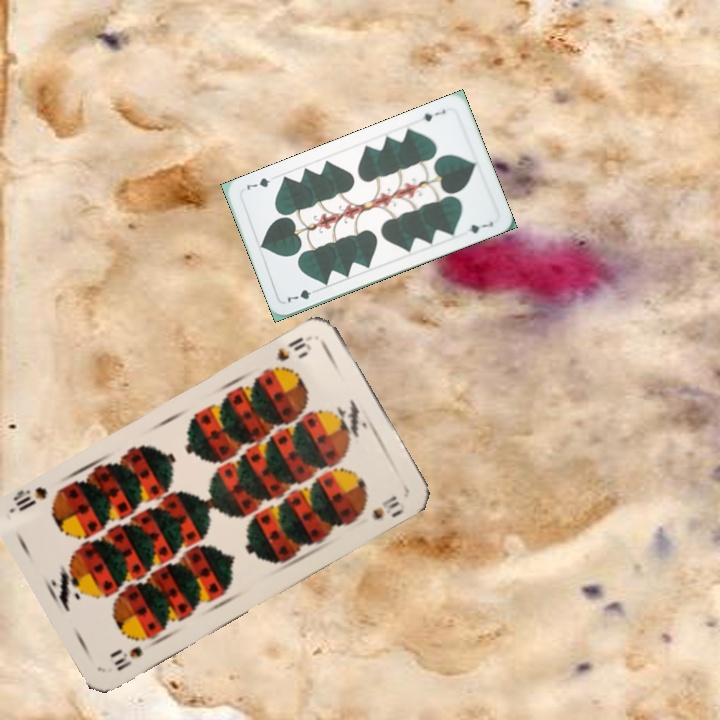G7: (283, 284, 322, 305), (419, 105, 448, 124)
S10: (272, 333, 314, 364), (106, 642, 145, 674)
